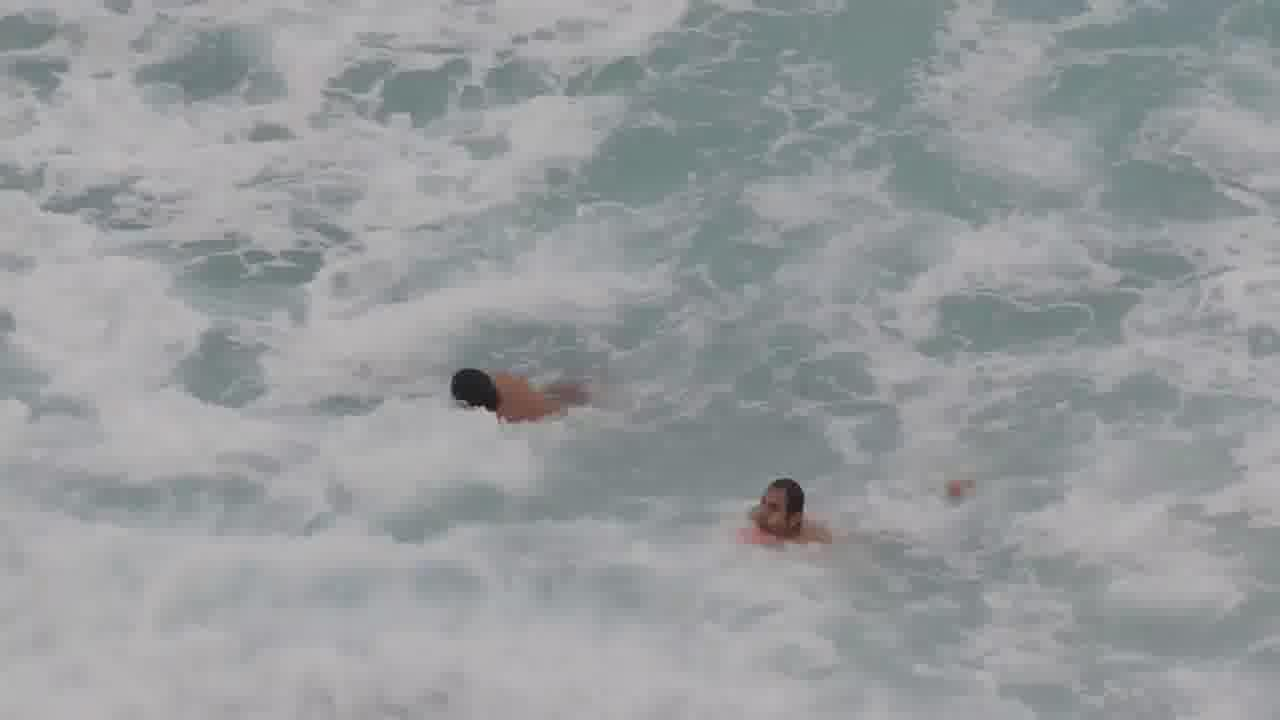human: (436, 350, 516, 437), (749, 465, 821, 552)
